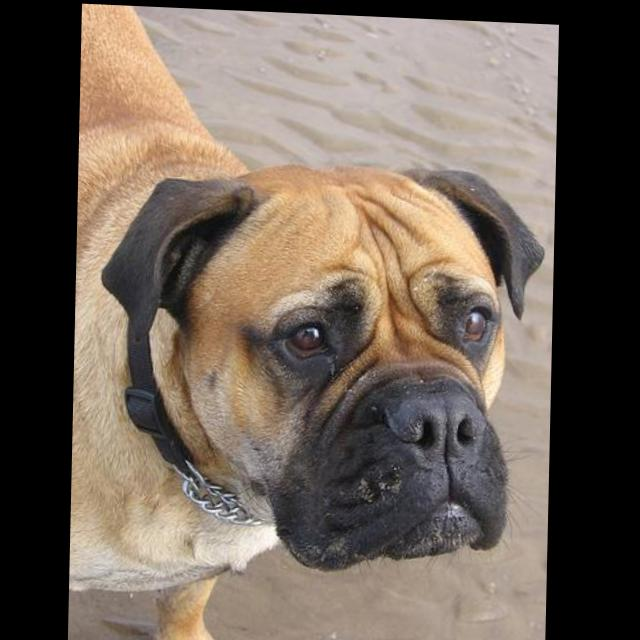bullmastiff: (71, 4, 550, 640)
